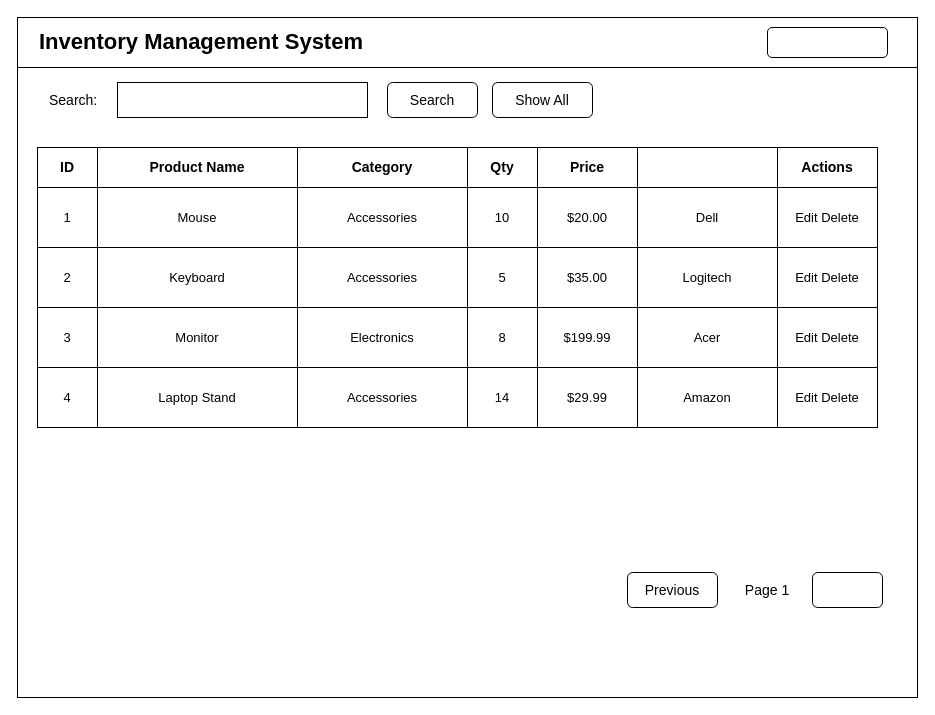
This 935x715 diagram has some shape labels left out. The centre of each missing label's shape, as x and y in pixels:
Add Product: point (827, 42)
Next: point (847, 590)
Supplier: point (707, 167)
